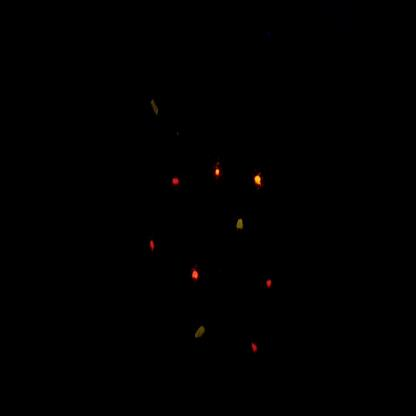PET: (168, 167, 190, 200), (245, 330, 264, 367), (144, 229, 162, 266), (261, 270, 279, 298)
PP: (148, 90, 167, 125), (193, 318, 211, 352), (233, 212, 250, 243)
PVC: (208, 155, 227, 195), (252, 165, 268, 199), (189, 258, 205, 292)
